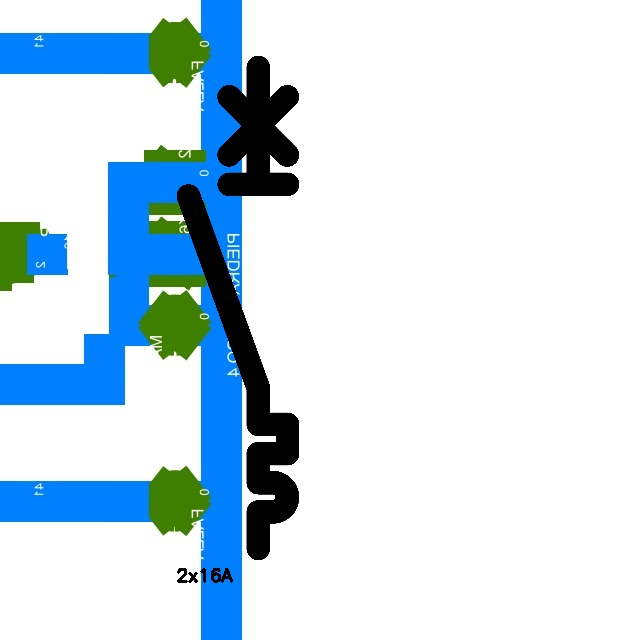interruptor_termomagnetico: (176, 55, 300, 561)
